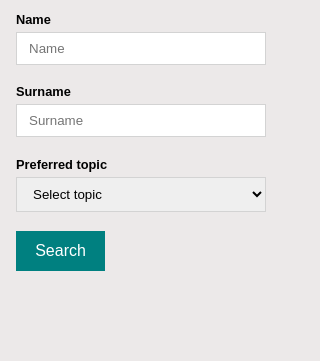
it: SearchForm component › should show a custom topic
This screenshot has width=320, height=361.
Select "Other" in the dropdown showing "Select topic": coordinates (141, 194) [16,177,266,212]
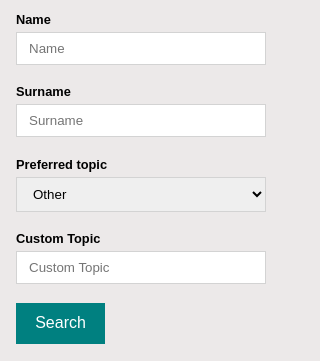
Expected: the text "Custom Topic" is shown, [16,231,100,246]
